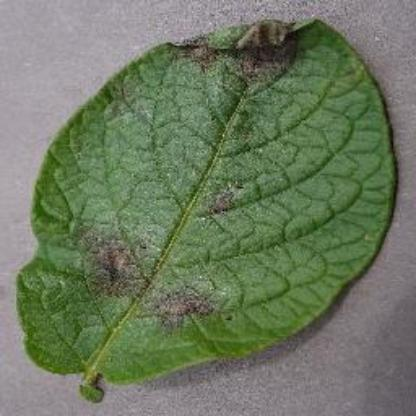Late-Blight: (16, 17, 398, 402)
